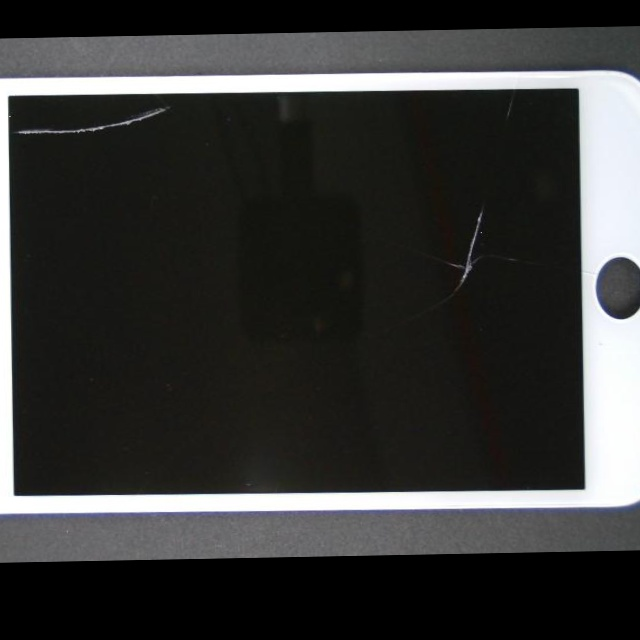scratch: (183, 161, 640, 442), (0, 93, 60, 206)
